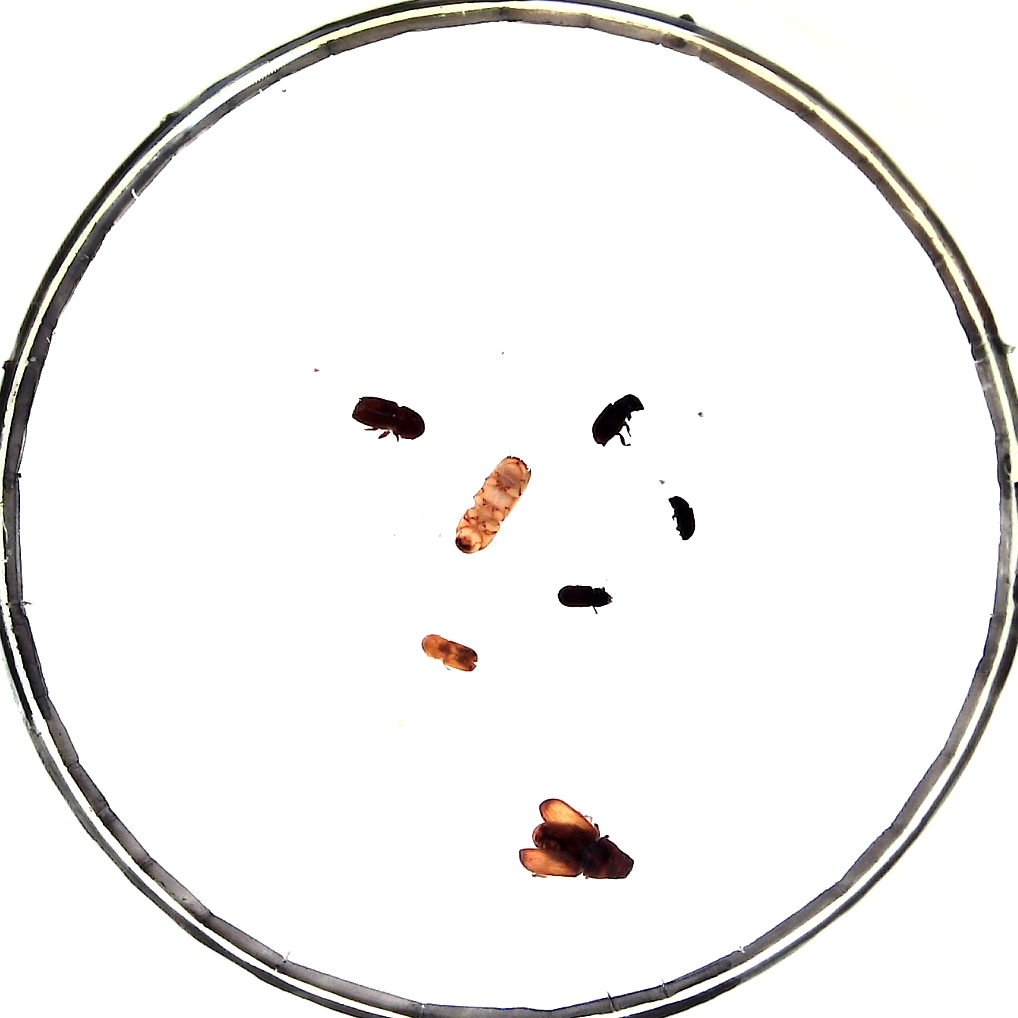Boerner: (452, 452, 532, 558)
Leconte: (517, 796, 640, 887)
Linnaeus: (350, 393, 428, 442)
acuminatus: (419, 630, 481, 675)
armandi: (590, 393, 646, 452)
coleoptera: (556, 579, 613, 612), (667, 496, 699, 542)
